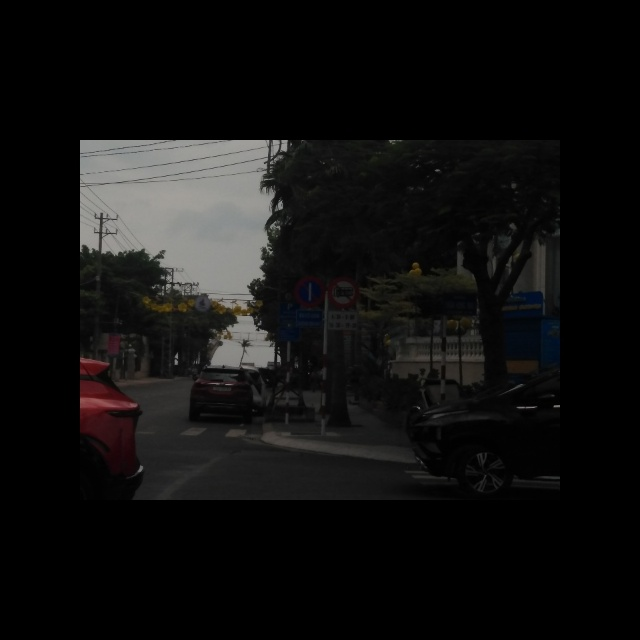Cấm xe xe khách: (329, 276, 359, 306)
Cấm đỗ xe ngày lẻ: (296, 277, 324, 307)
